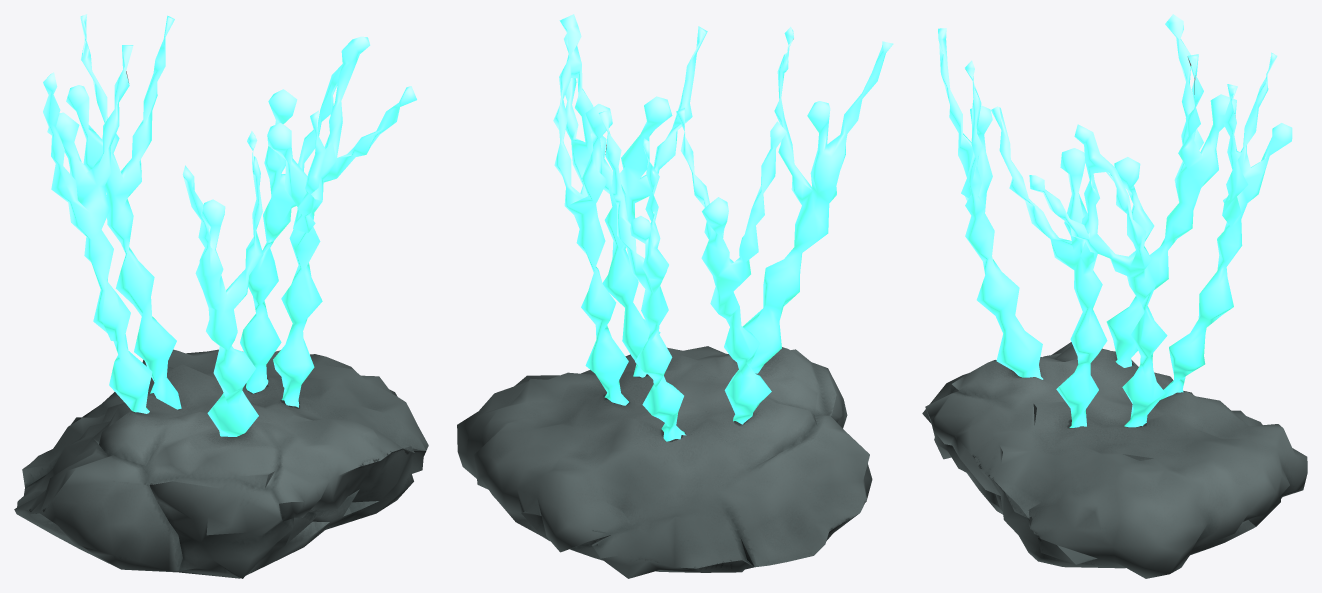
The model's file is coral_luminoso.fbx.
3 views of the same model, side by side, from view 1: azimuth 30°, elevation 25°; view 2: azimuth 150°, elevation 25°; view 3: azimuth 270°, elevation 25° (orthographic). The views are drawn at different scales.
Parts seen in each view (by area): view 1: coral_luminoso, coral_luminoso_neon; view 2: coral_luminoso, coral_luminoso_neon; view 3: coral_luminoso, coral_luminoso_neon.
Boxes of the visible parts, x1=… form: coral_luminoso: x1=14, y1=349, x2=428, y2=578; coral_luminoso_neon: x1=43, y1=14, x2=416, y2=436; coral_luminoso: x1=457, y1=346, x2=872, y2=578; coral_luminoso_neon: x1=553, y1=14, x2=893, y2=441; coral_luminoso: x1=922, y1=342, x2=1307, y2=578; coral_luminoso_neon: x1=938, y1=14, x2=1292, y2=427.
Size of the model in its own units: 1.92 by 2.16 by 1.74.
2 materials, 2 textured.
